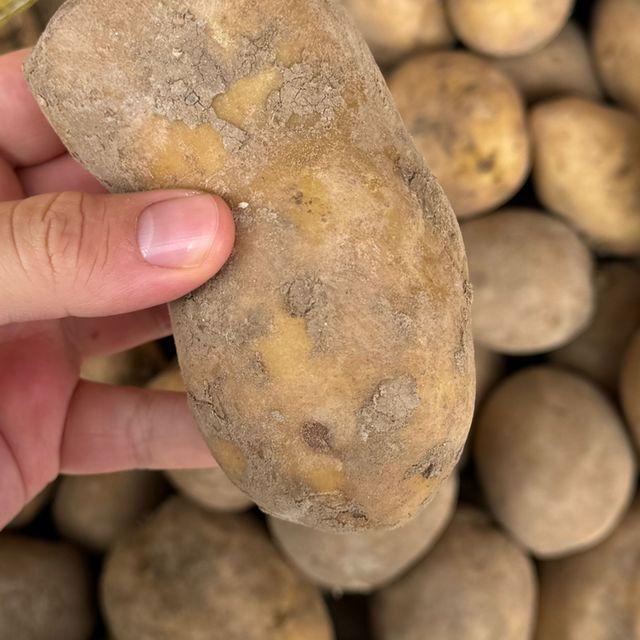potato: (0, 0, 511, 606)
